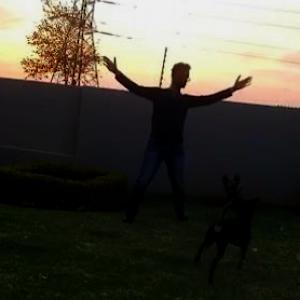takeoff: (90, 55, 241, 226)
